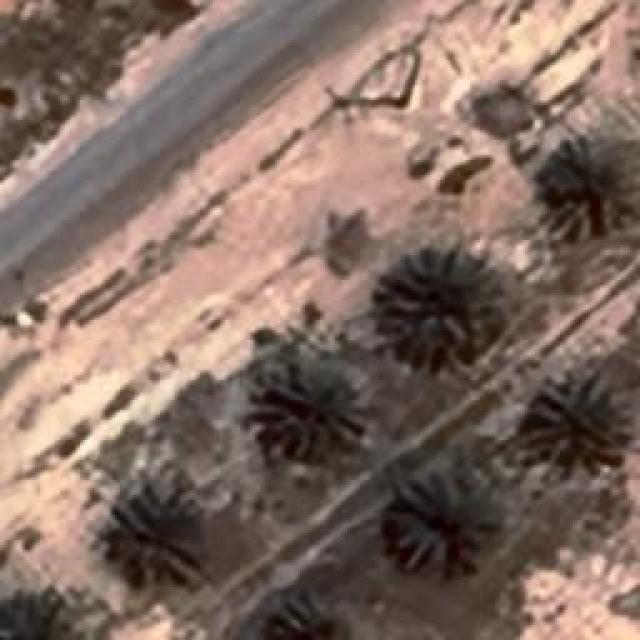PalmTree: (41, 43, 314, 618), (370, 250, 492, 355), (388, 472, 498, 572), (520, 370, 622, 475), (538, 135, 638, 240), (265, 360, 365, 460), (104, 480, 198, 582)
